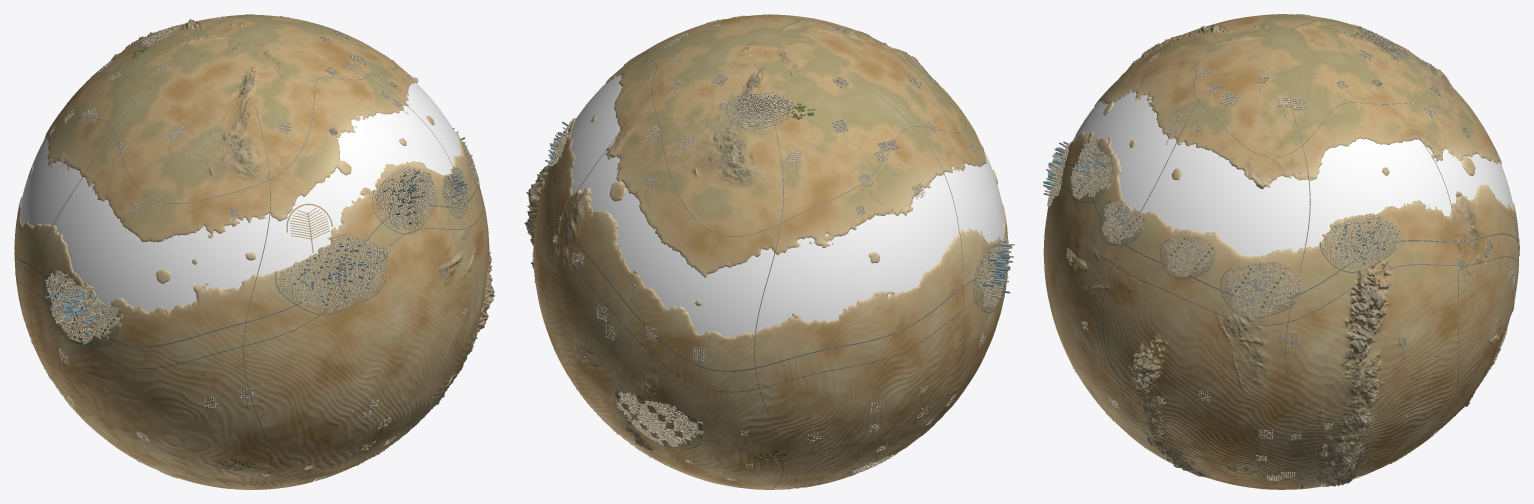
The model's file is uae-planet.glb.
3 renders of one model, left to right at view 1: azimuth 30°, elevation 25°; view 2: azimuth 150°, elevation 25°; view 3: azimuth 270°, elevation 25°, orthographic.
Visible parts, largest first — view 1: Planet / continuous sculpted land, Sea / connected coastal belt, Roads / asphalt, shoulders and lane markings, Dubai / urban blocks, Abu Dhabi / urban blocks, Satellite towns / desert settlements, Sharjah / urban blocks, Ajman / urban blocks, Dubai / reclaimed palm islands, Oases / irrigated gardens and fields; view 2: Planet / continuous sculpted land, Sea / connected coastal belt, Roads / asphalt, shoulders and lane markings, Satellite towns / desert settlements, Al Ain / urban blocks, Abu Dhabi / urban blocks, Northern plateau / urban blocks, Oases / irrigated gardens and fields; view 3: Planet / continuous sculpted land, Sea / connected coastal belt, Roads / asphalt, shoulders and lane markings, Satellite towns / desert settlements, Ras Al Khaimah / urban blocks, Fujairah / urban blocks, Sharjah / urban blocks, Umm Al Quwain / urban blocks, Ajman / urban blocks, Dubai / urban blocks.
Boxes of the visible parts, box(x1,y1,x2,y2) form: Planet / continuous sculpted land: box(14, 14, 494, 489); Sea / connected coastal belt: box(20, 82, 461, 312); Roads / asphalt, shoulders and lane markings: box(14, 17, 483, 489); Dubai / urban blocks: box(282, 236, 388, 312); Abu Dhabi / urban blocks: box(44, 270, 122, 344); Satellite towns / desert settlements: box(29, 14, 467, 481); Sharjah / urban blocks: box(374, 168, 433, 229); Ajman / urban blocks: box(443, 167, 467, 213); Dubai / reclaimed palm islands: box(286, 203, 332, 253); Oases / irrigated gardens and fields: box(53, 39, 465, 470); Planet / continuous sculpted land: box(524, 14, 1007, 489); Sea / connected coastal belt: box(570, 74, 1004, 337); Roads / asphalt, shoulders and lane markings: box(534, 14, 1008, 489); Satellite towns / desert settlements: box(532, 14, 987, 481); Al Ain / urban blocks: box(617, 391, 703, 447); Abu Dhabi / urban blocks: box(975, 234, 1014, 308); Northern plateau / urban blocks: box(732, 93, 793, 126); Oases / irrigated gardens and fields: box(616, 94, 993, 473); Planet / continuous sculpted land: box(1043, 14, 1518, 489); Sea / connected coastal belt: box(1073, 91, 1513, 256); Roads / asphalt, shoulders and lane markings: box(1047, 14, 1519, 488); Satellite towns / desert settlements: box(1066, 14, 1519, 486); Ras Al Khaimah / urban blocks: box(1227, 265, 1301, 315); Fujairah / urban blocks: box(1325, 215, 1398, 268); Sharjah / urban blocks: box(1070, 139, 1114, 199); Umm Al Quwain / urban blocks: box(1164, 237, 1216, 275); Ajman / urban blocks: box(1101, 200, 1144, 243); Dubai / urban blocks: box(1043, 141, 1071, 207).
Bounding box in the file's own units: 20.64 × 20.12 × 20.18.
